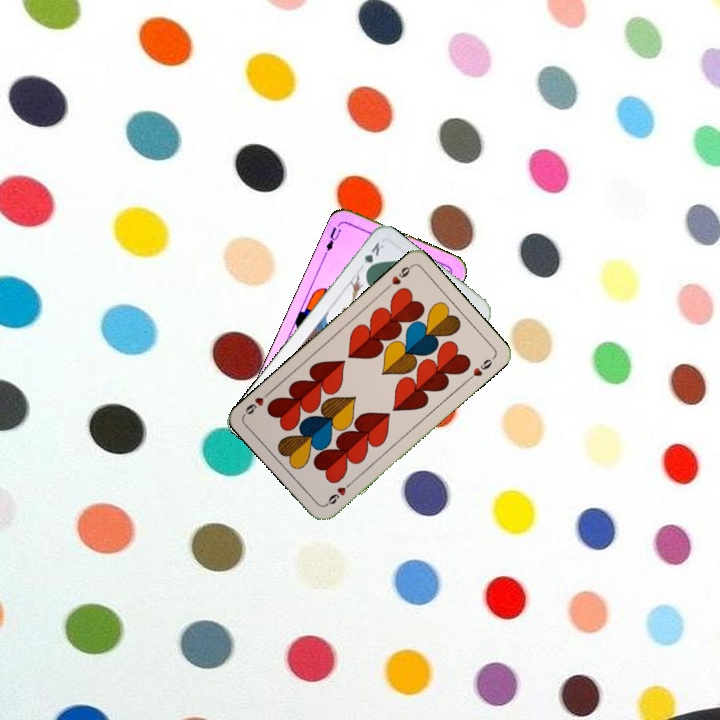EU: (322, 223, 344, 254)
GK: (360, 238, 386, 275)
H9: (381, 261, 415, 292), (322, 477, 355, 508)
